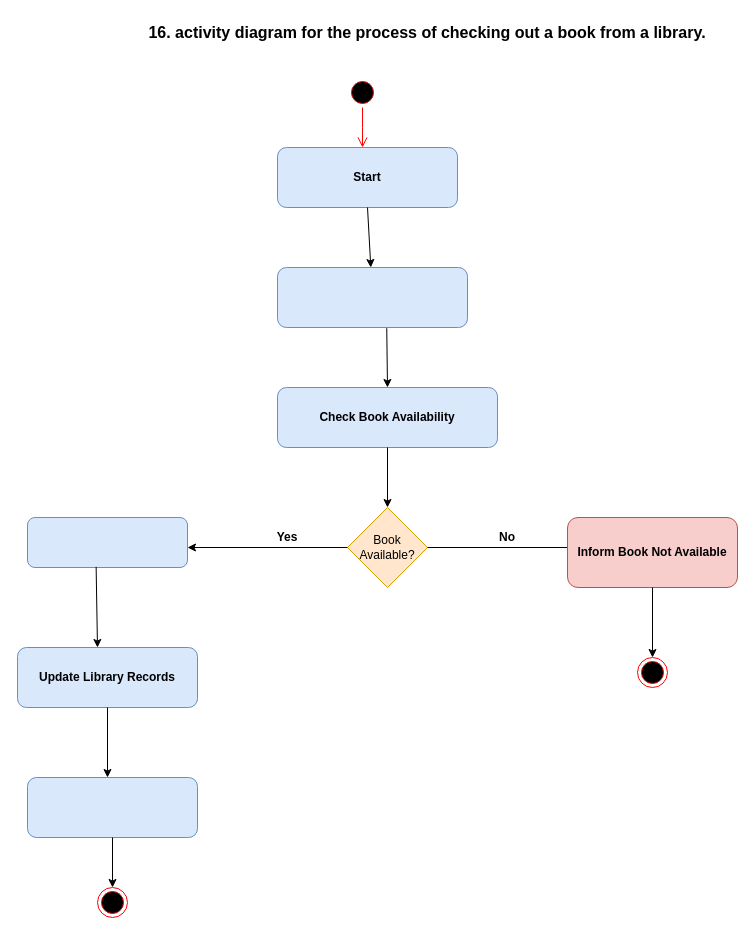
Some shapes in this 755 by 935 pixel diagram are drawn without their labels. Here are the shapes that lost their labels. From the top down, the centre of each, then its label:
pixel 372 297: Search Book
pixel 107 542: Issue Book
pixel 112 807: Hand Over Book
